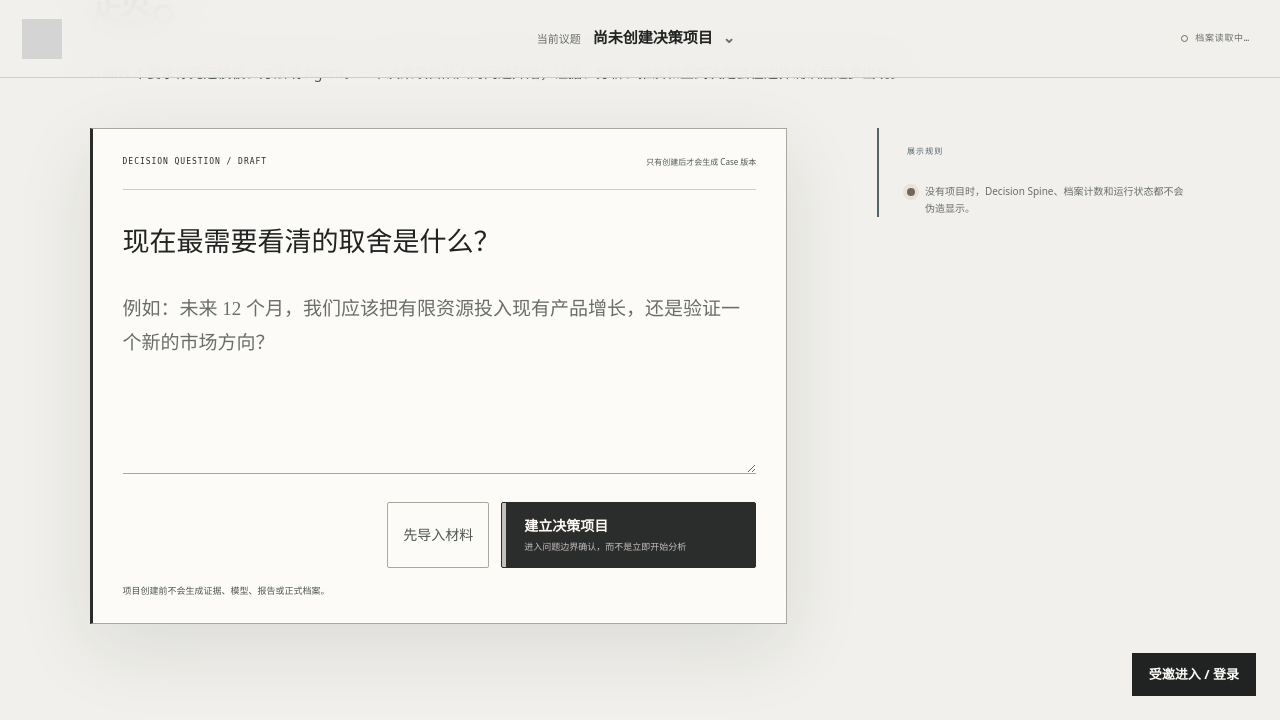
Test: Case shell route skeleton (Task 11 Phase 0 Session A) › renders the question-first empty state without a template card wall
(page scrolled)
Expected: the button "尚未创建决策项目 ⌄" is enabled, x1=593 y1=19 x2=735 y2=58
Click the button "建立决策项目 进入问题边界确认，而不是立即开始分析" at (629, 535), box x1=501 y1=502 x2=756 y2=568
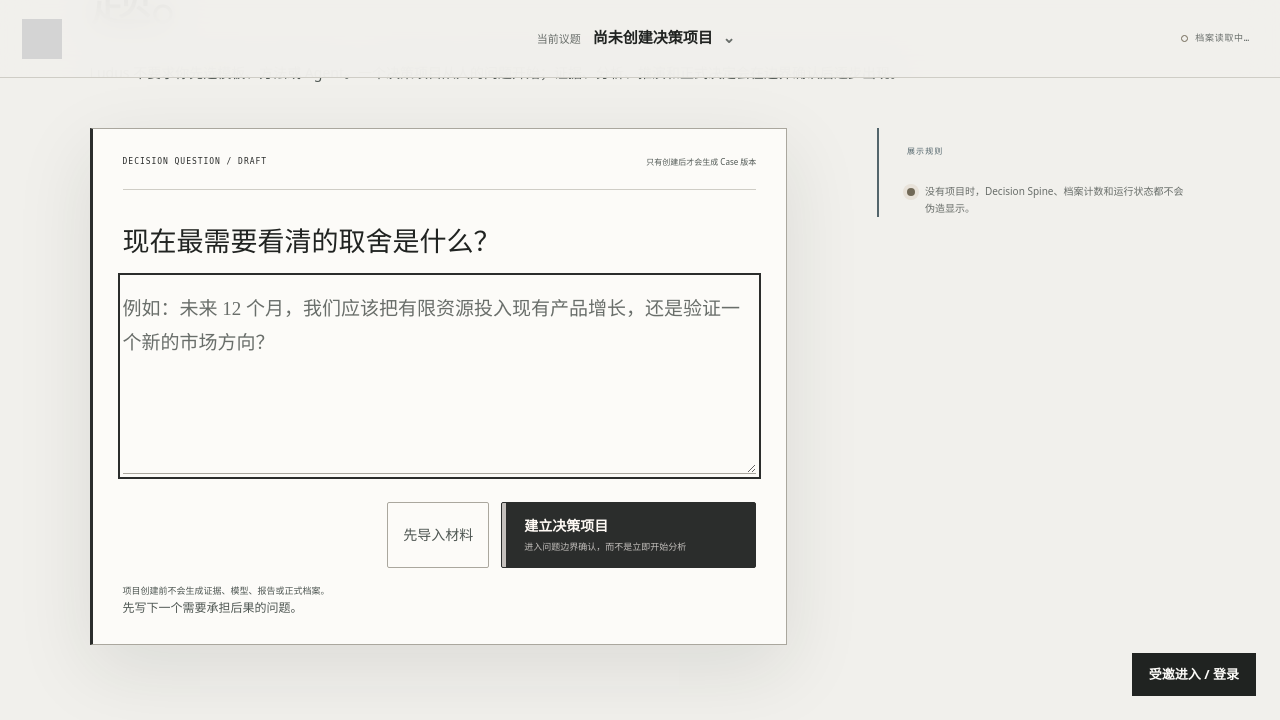
Now the message reads "先写下一个需要承担后果的问题。", box x1=123 y1=599 x2=303 y2=616
# Real create flow: guest-backed POST /cases, then open the case route.
Type "先验证哪一个市场方向？" into the text box labelled "现在最需要看清的取舍是什么？" at (439, 376), box x1=123 y1=278 x2=756 y2=474
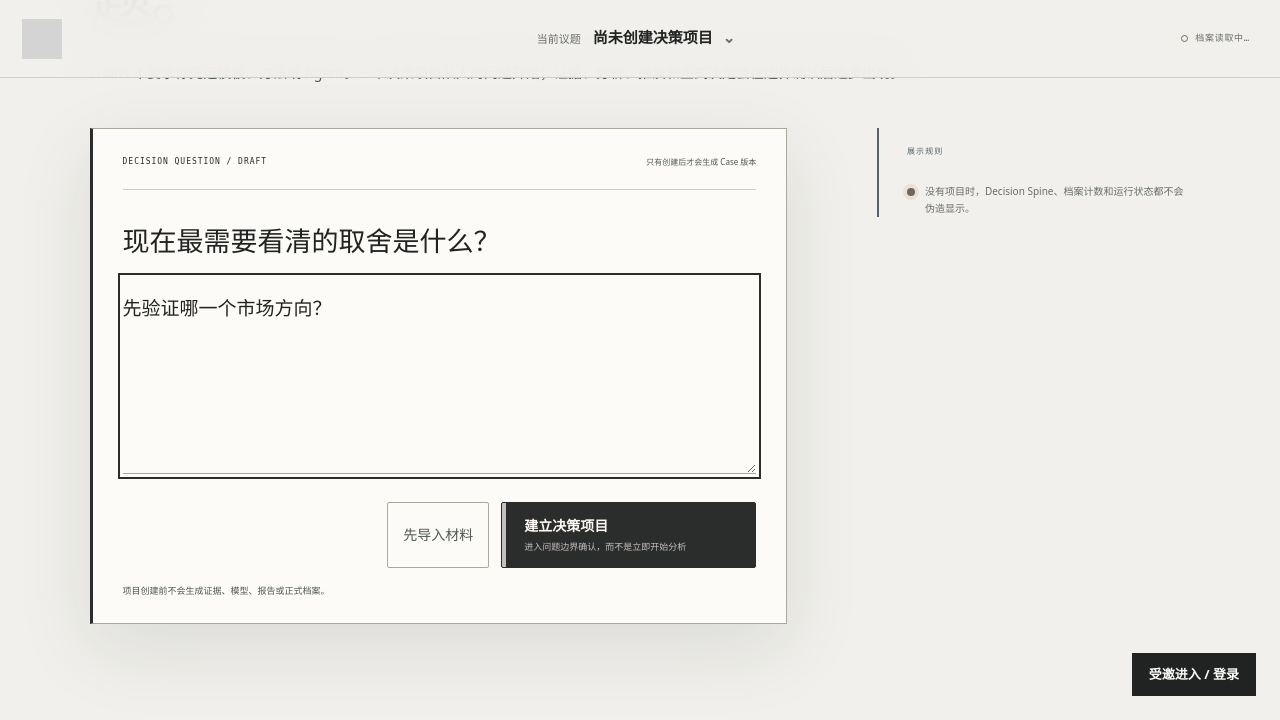
Click the button "建立决策项目 进入问题边界确认，而不是立即开始分析" at (629, 535), box x1=501 y1=502 x2=756 y2=568
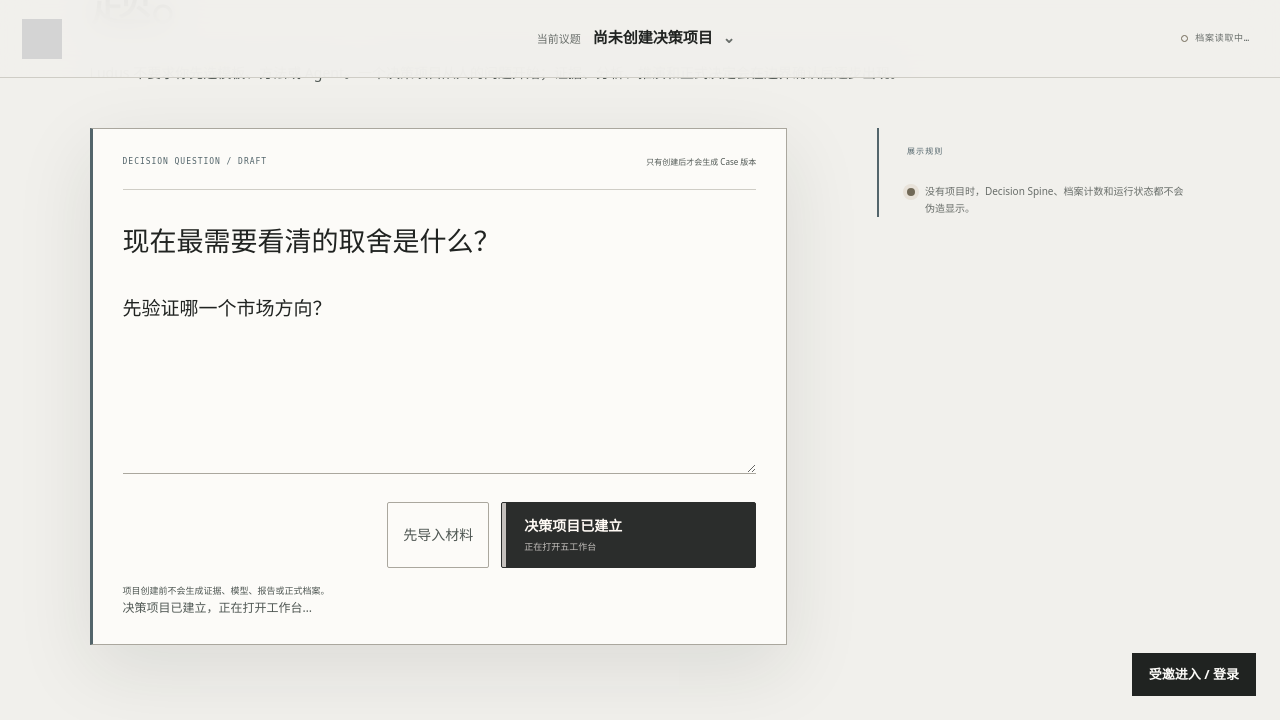
Now the message reads "决策项目已建立，正在打开工作台…", box x1=123 y1=599 x2=312 y2=616
